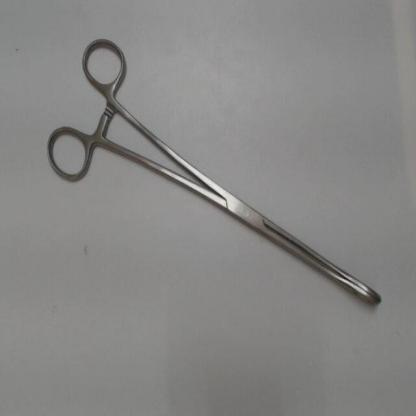Sponge Forceps: (39, 26, 386, 315)
